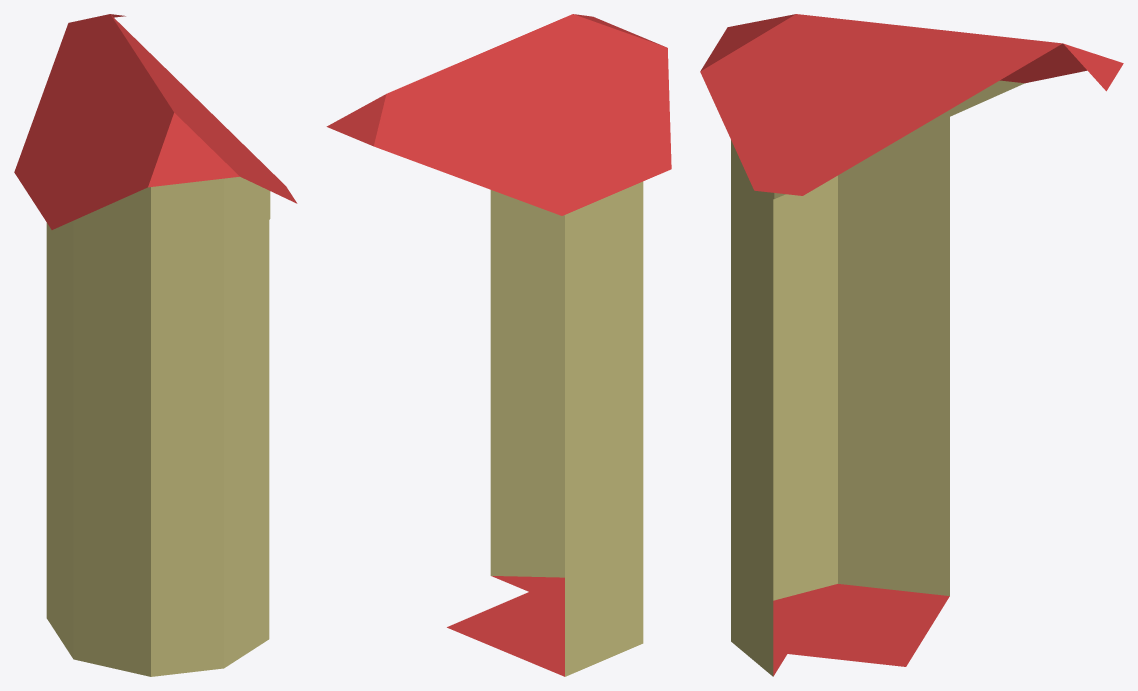
The picture shows the model from 3 angles, left to right: view 1: azimuth 30°, elevation 25°; view 2: azimuth 150°, elevation 25°; view 3: azimuth 270°, elevation 25°; orthographic projection. The views are drawn at different scales.
Bounding box in the file's own units: 5.03 × 7.32 × 11.74.
